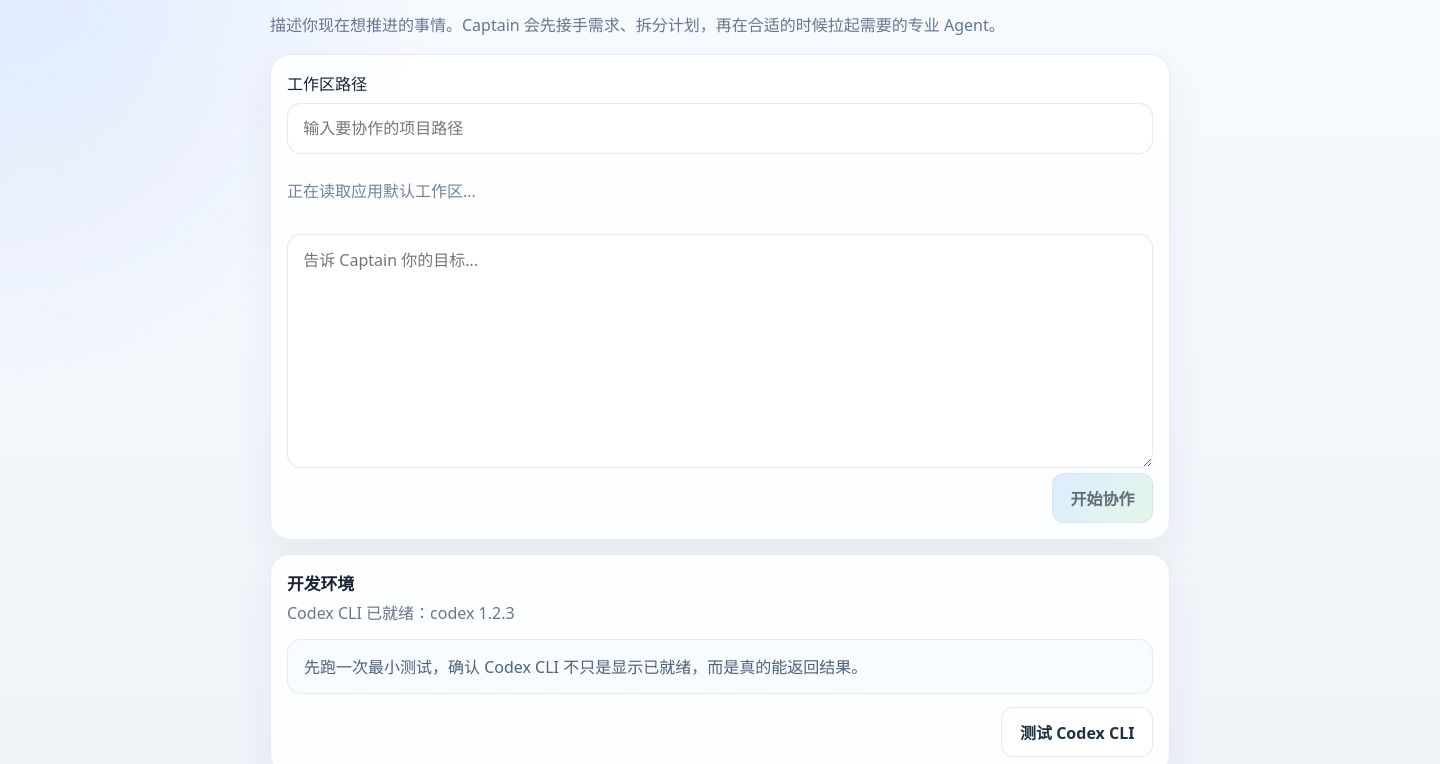
Test: HomePage › runs the dedicated Codex CLI smoke test from the home page
Click the button "测试 Codex CLI": (1077, 732) [1001,707,1153,757]
(page scrolled)
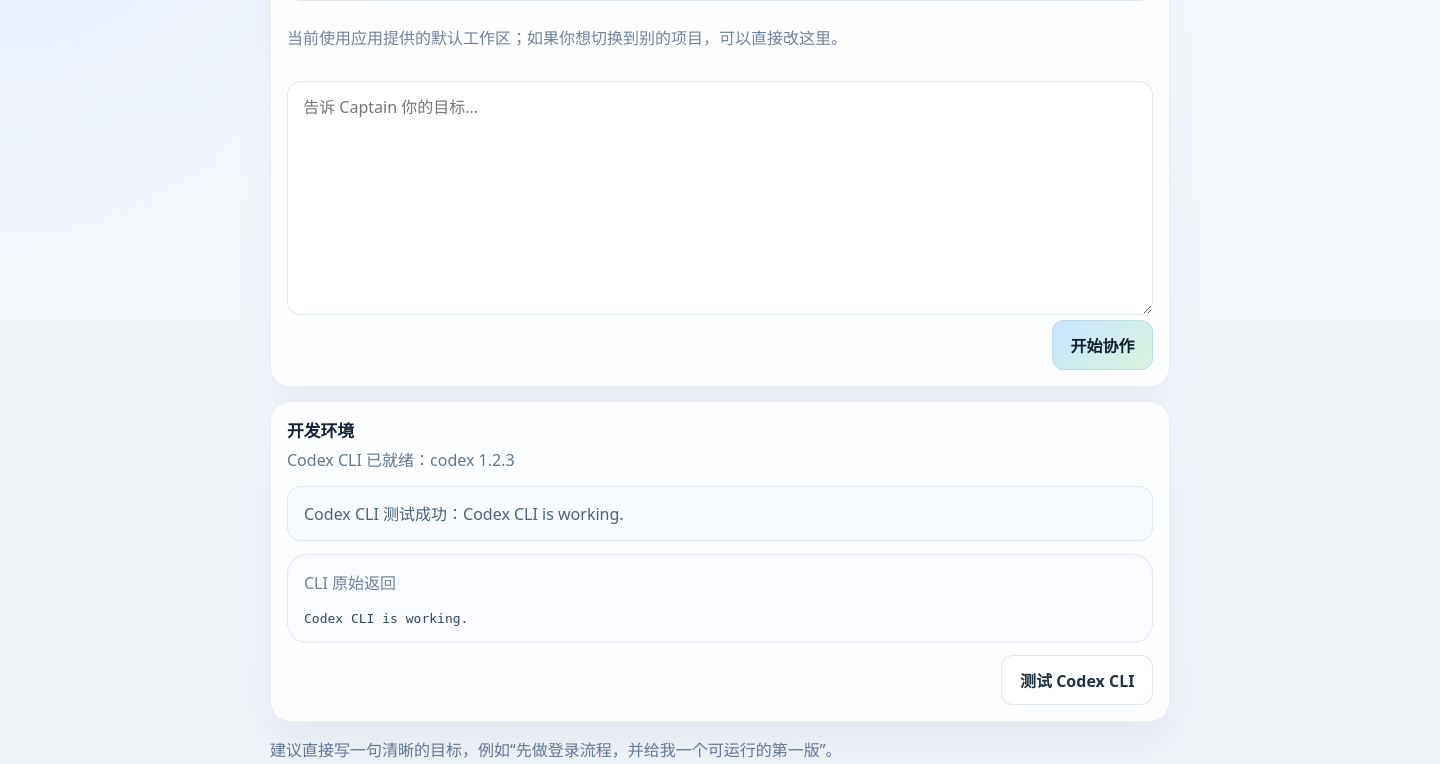
expect the text "Codex CLI 测试成功：Codex CLI is working." is shown: met, box [287,486,1153,541]
expect the text "CLI 原始返回" is shown: met, box [304,572,396,594]
expect the text "Codex CLI is working." is shown: met, box [304,611,468,626]
